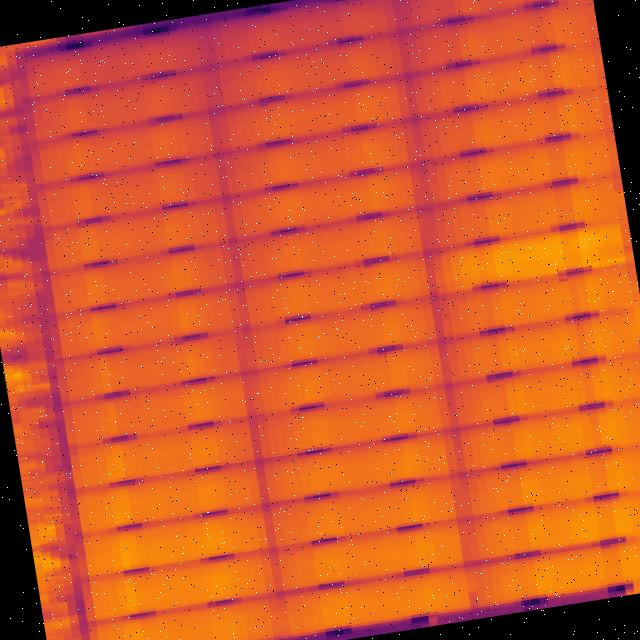Hotspot: (452, 227, 615, 287)
